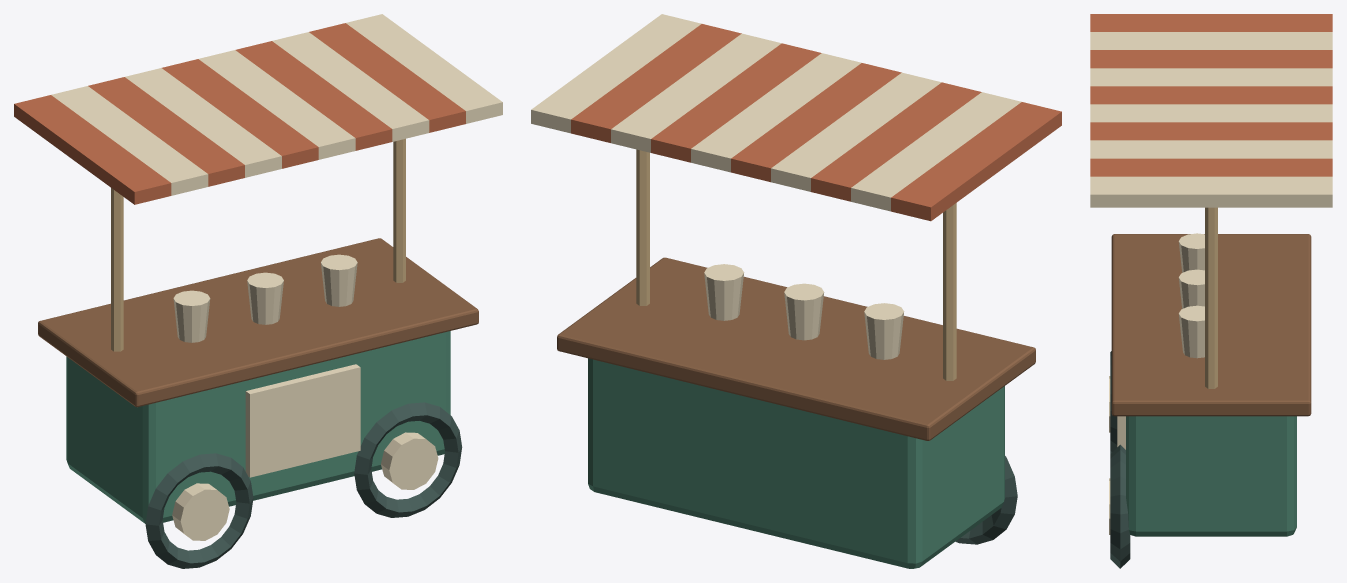
The model's file is tpe5_coffee_cart.glb.
The picture shows the model from 3 angles, left to right: view 1: azimuth 30°, elevation 25°; view 2: azimuth 150°, elevation 25°; view 3: azimuth 270°, elevation 25°; orthographic projection. The views are drawn at different scales.
Parts seen in each view (by area): view 1: tpe5_coffee_cart__tpe5-street-ivory, tpe5_coffee_cart__tpe5-street-walnut, tpe5_coffee_cart__tpe5-street-jade, tpe5_coffee_cart__tpe5-street-cinnabar, tpe5_coffee_cart__tpe5-street-ink, tpe5_coffee_cart__tpe5-street-brass; view 2: tpe5_coffee_cart__tpe5-street-jade, tpe5_coffee_cart__tpe5-street-walnut, tpe5_coffee_cart__tpe5-street-ivory, tpe5_coffee_cart__tpe5-street-cinnabar, tpe5_coffee_cart__tpe5-street-brass, tpe5_coffee_cart__tpe5-street-ink; view 3: tpe5_coffee_cart__tpe5-street-walnut, tpe5_coffee_cart__tpe5-street-ivory, tpe5_coffee_cart__tpe5-street-cinnabar, tpe5_coffee_cart__tpe5-street-jade, tpe5_coffee_cart__tpe5-street-ink, tpe5_coffee_cart__tpe5-street-brass.
Boxes of the visible parts, box(x1,y1,x2,y2) form: tpe5_coffee_cart__tpe5-street-ivory: box(51, 14, 502, 540); tpe5_coffee_cart__tpe5-street-walnut: box(38, 238, 478, 407); tpe5_coffee_cart__tpe5-street-jade: box(66, 331, 450, 523); tpe5_coffee_cart__tpe5-street-cinnabar: box(14, 23, 465, 204); tpe5_coffee_cart__tpe5-street-ink: box(145, 402, 462, 568); tpe5_coffee_cart__tpe5-street-brass: box(111, 138, 405, 351); tpe5_coffee_cart__tpe5-street-jade: box(588, 358, 1004, 568); tpe5_coffee_cart__tpe5-street-walnut: box(557, 257, 1035, 440); tpe5_coffee_cart__tpe5-street-ivory: box(531, 14, 1021, 359); tpe5_coffee_cart__tpe5-street-cinnabar: box(571, 24, 1061, 221); tpe5_coffee_cart__tpe5-street-brass: box(636, 149, 956, 380); tpe5_coffee_cart__tpe5-street-ink: box(955, 456, 1017, 544); tpe5_coffee_cart__tpe5-street-walnut: box(1111, 234, 1311, 416); tpe5_coffee_cart__tpe5-street-ivory: box(1090, 32, 1332, 534); tpe5_coffee_cart__tpe5-street-cinnabar: box(1090, 14, 1332, 176); tpe5_coffee_cart__tpe5-street-jade: box(1126, 416, 1296, 536); tpe5_coffee_cart__tpe5-street-ink: box(1110, 351, 1130, 568); tpe5_coffee_cart__tpe5-street-brass: box(1205, 207, 1217, 388).
Size of the model in its own units: 3 by 3.16 by 1.7.
